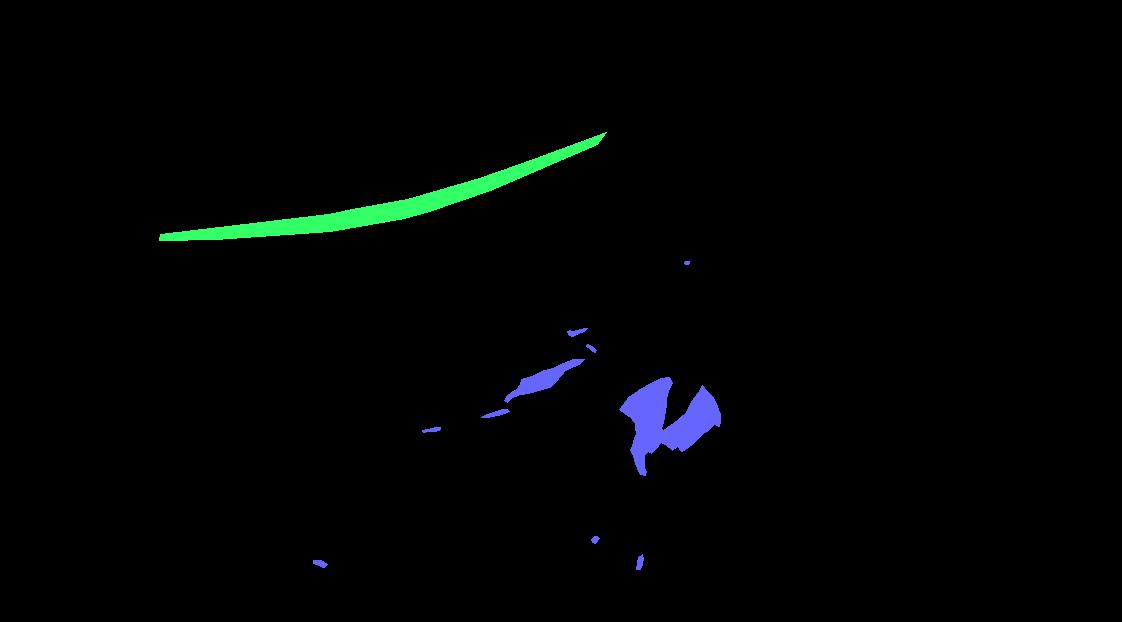Broken part: (159, 132, 606, 240)
Scratch: (619, 377, 720, 475), (504, 359, 584, 402), (481, 409, 509, 417), (567, 328, 587, 336), (636, 554, 643, 569), (313, 560, 327, 567), (422, 427, 440, 432), (586, 344, 596, 352), (591, 536, 599, 543), (684, 261, 689, 264)
